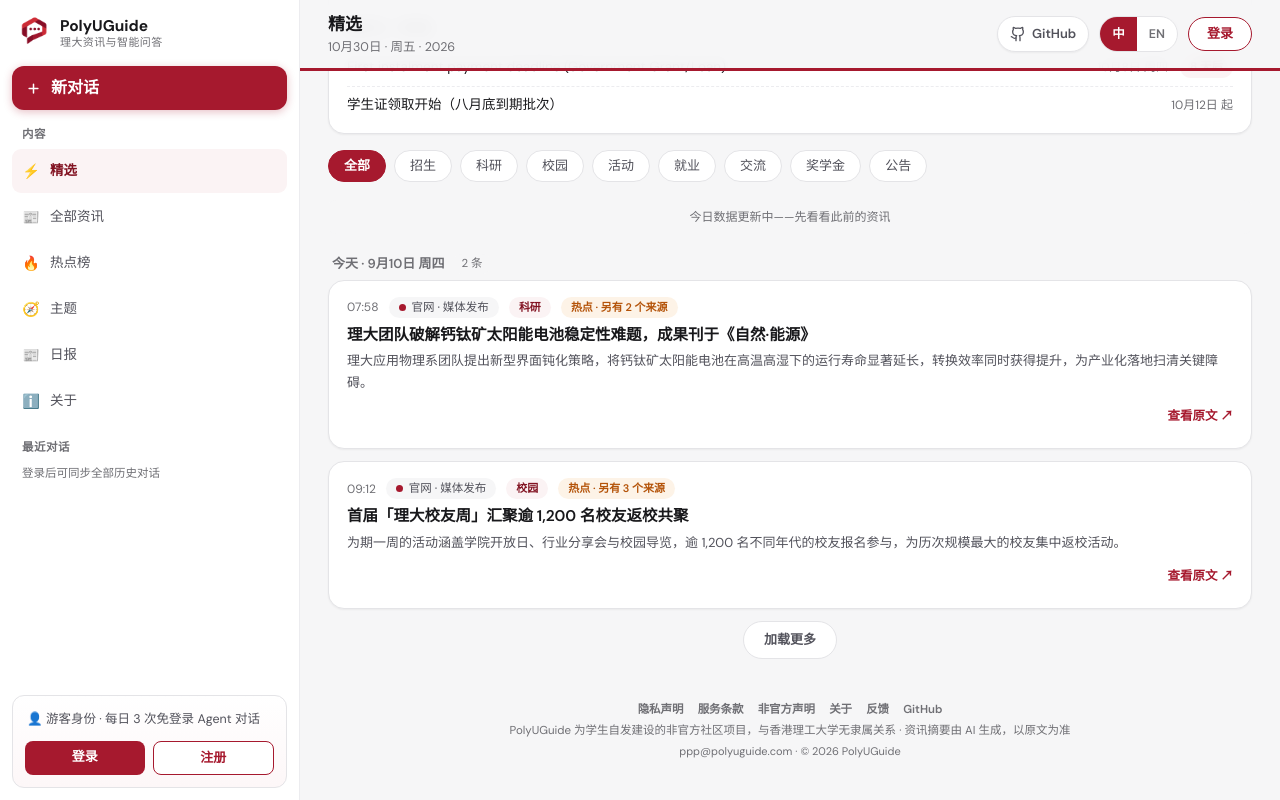
FeedPage load-more › appends the next page on click and hides the button when exhausted
(page scrolled)
Click the button "加载更多" at [790, 640], box [743,621,837,658]
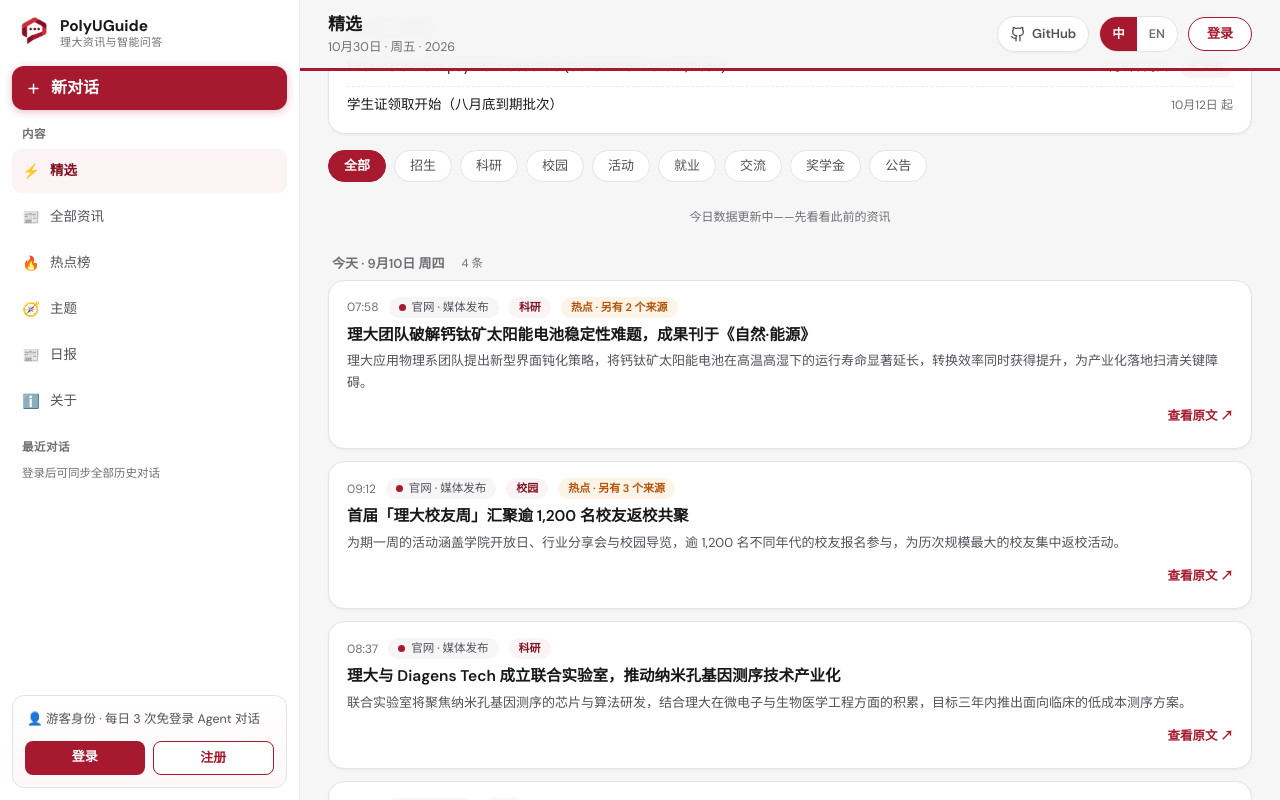
Result: the button "加载更多" is gone
